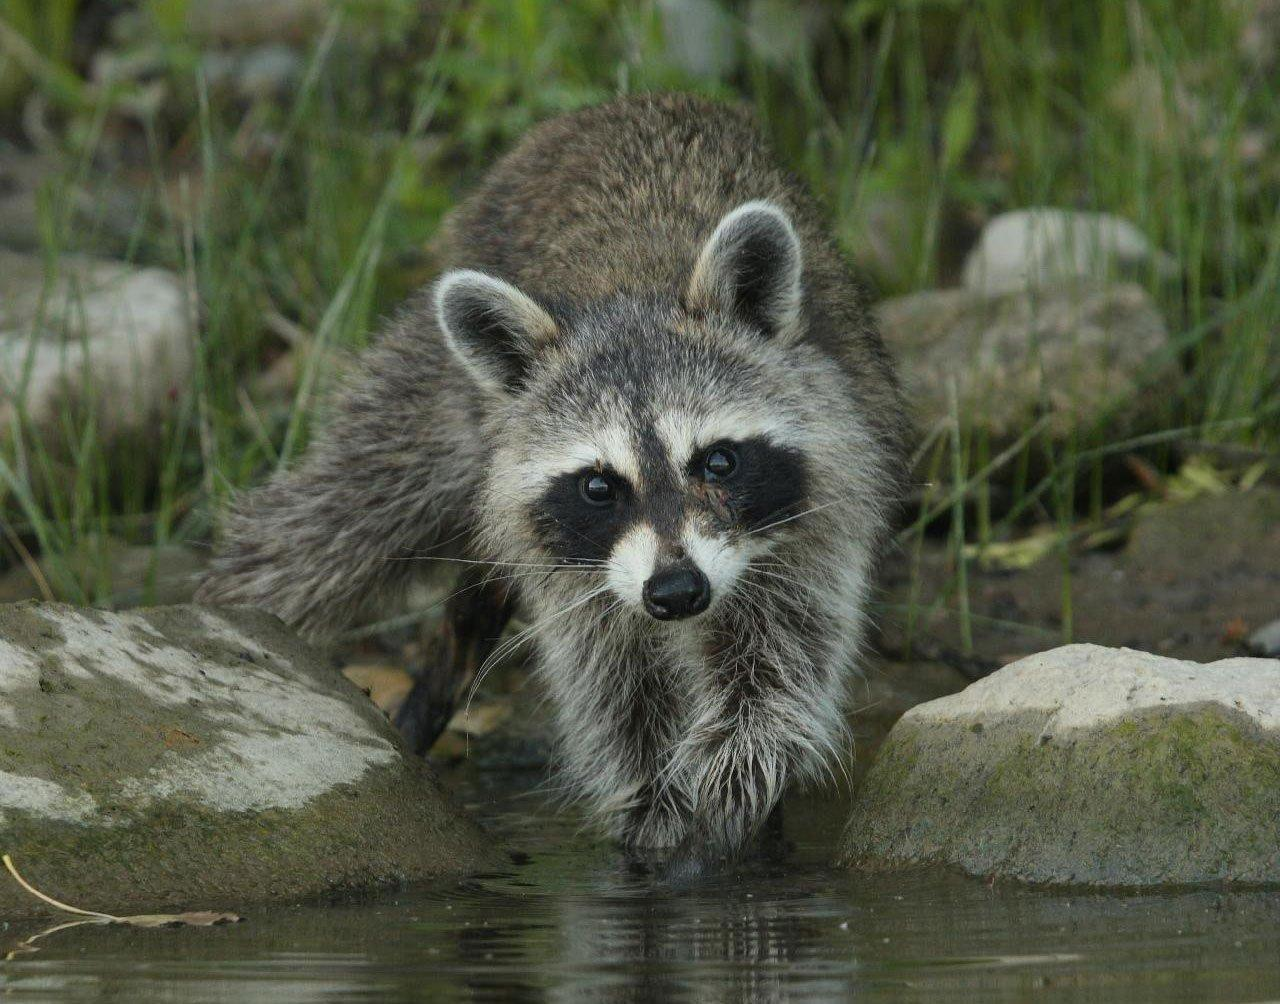raccoon: (201, 85, 910, 896)
